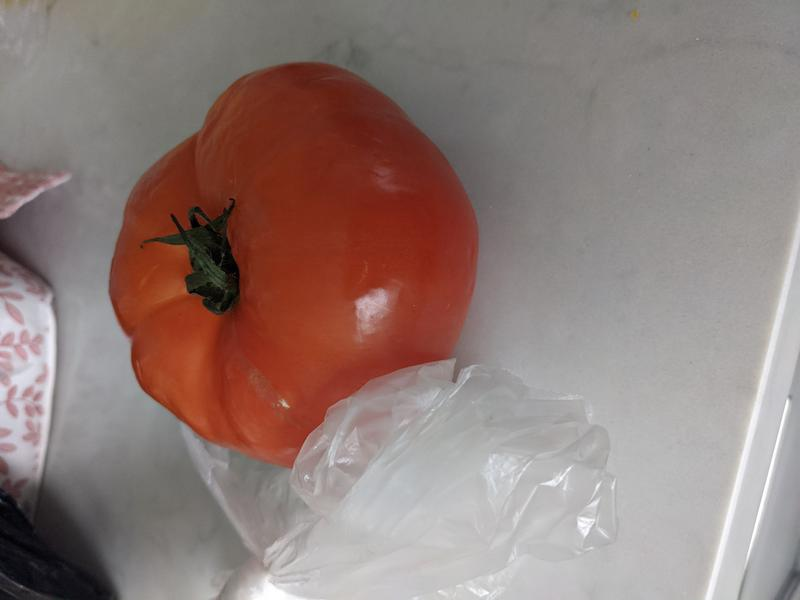tomato: (108, 61, 482, 468)
